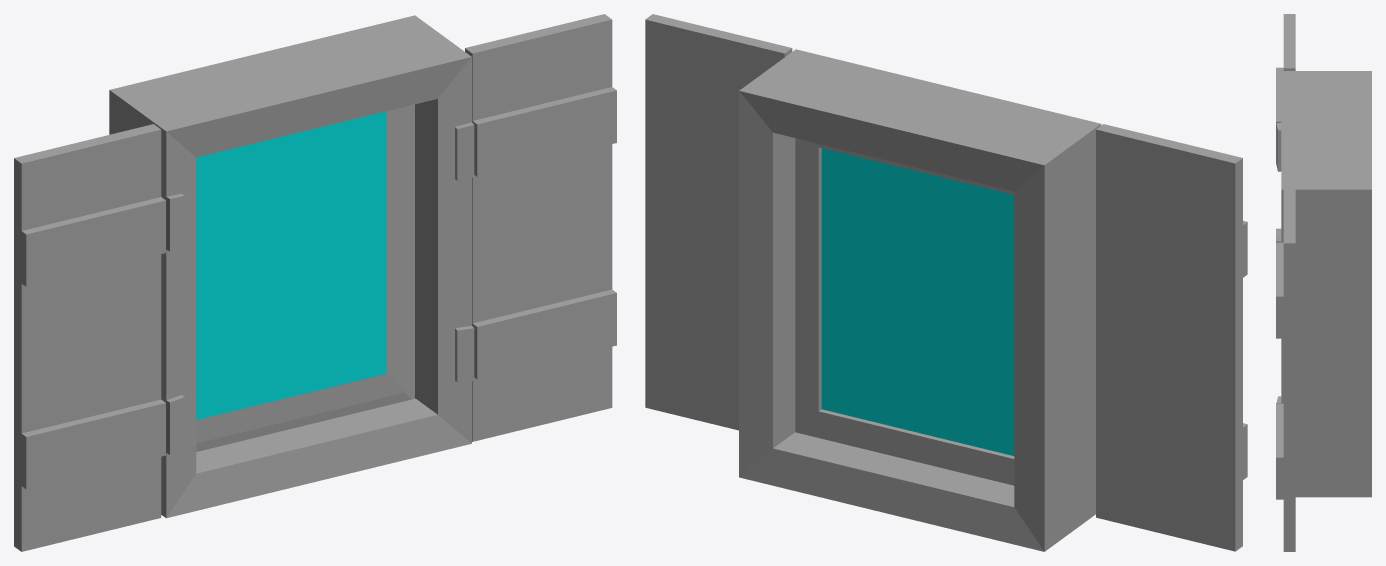
File: WindowD.fbx
3 views of the same model, side by side, from view 1: azimuth 30°, elevation 25°; view 2: azimuth 150°, elevation 25°; view 3: azimuth 270°, elevation 25° (orthographic). The views are drawn at different scales.
Visible parts, largest first — view 1: WindowD, Shutter1, Shutter; view 2: WindowD, Shutter1, Shutter; view 3: WindowD, Shutter, Shutter1.
Boxes of the visible parts, <box> form: WindowD: <box>109,15,474,518</box>; Shutter1: <box>14,124,165,551</box>; Shutter: <box>465,14,616,441</box>; WindowD: <box>739,49,1101,551</box>; Shutter1: <box>1096,124,1247,551</box>; Shutter: <box>645,14,792,430</box>; WindowD: <box>1276,71,1371,497</box>; Shutter: <box>1276,189,1295,551</box>; Shutter1: <box>1276,14,1295,242</box>.
Size of the model in its own units: 4.95 by 3.11 by 0.8731.
